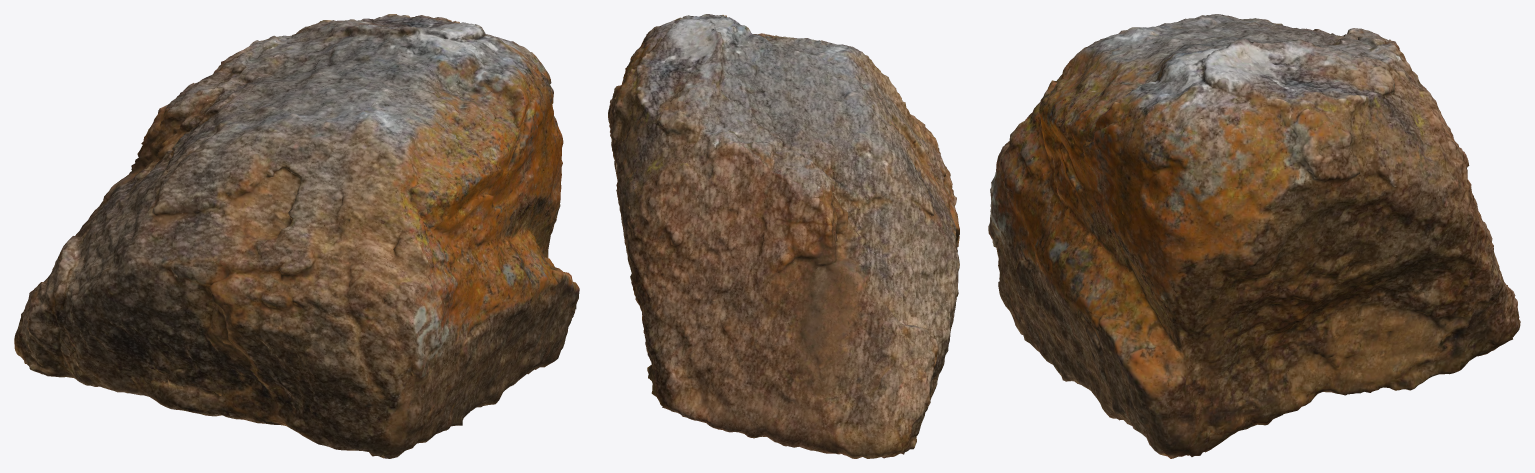
The model's file is namaqualand_boulder_04.gltf.
3 views of the same model, side by side, from view 1: azimuth 30°, elevation 25°; view 2: azimuth 150°, elevation 25°; view 3: azimuth 270°, elevation 25° (orthographic). The views are drawn at different scales.
Parts seen in each view (by area): view 1: boulder_04; view 2: boulder_04; view 3: boulder_04.
Part boxes in pixels (<box>): boulder_04: <box>14,14,579,458</box>; boulder_04: <box>608,14,959,458</box>; boulder_04: <box>988,14,1520,458</box>.
Size of the model in its own units: 2.52 by 1.9 by 2.5.
Materials: 1 (1 with a texture image).
